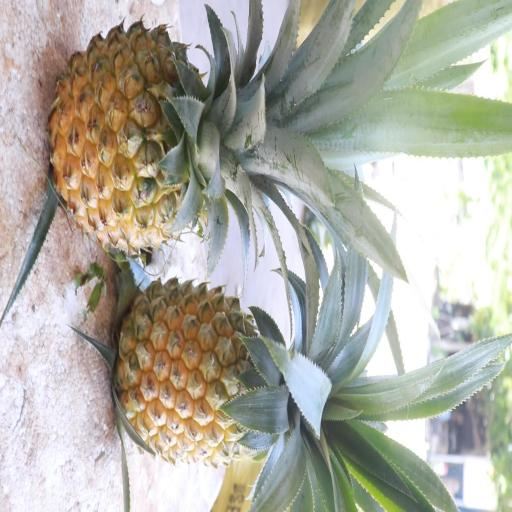Pineapple - v8 v1: (44, 14, 298, 260), (109, 272, 349, 474)
